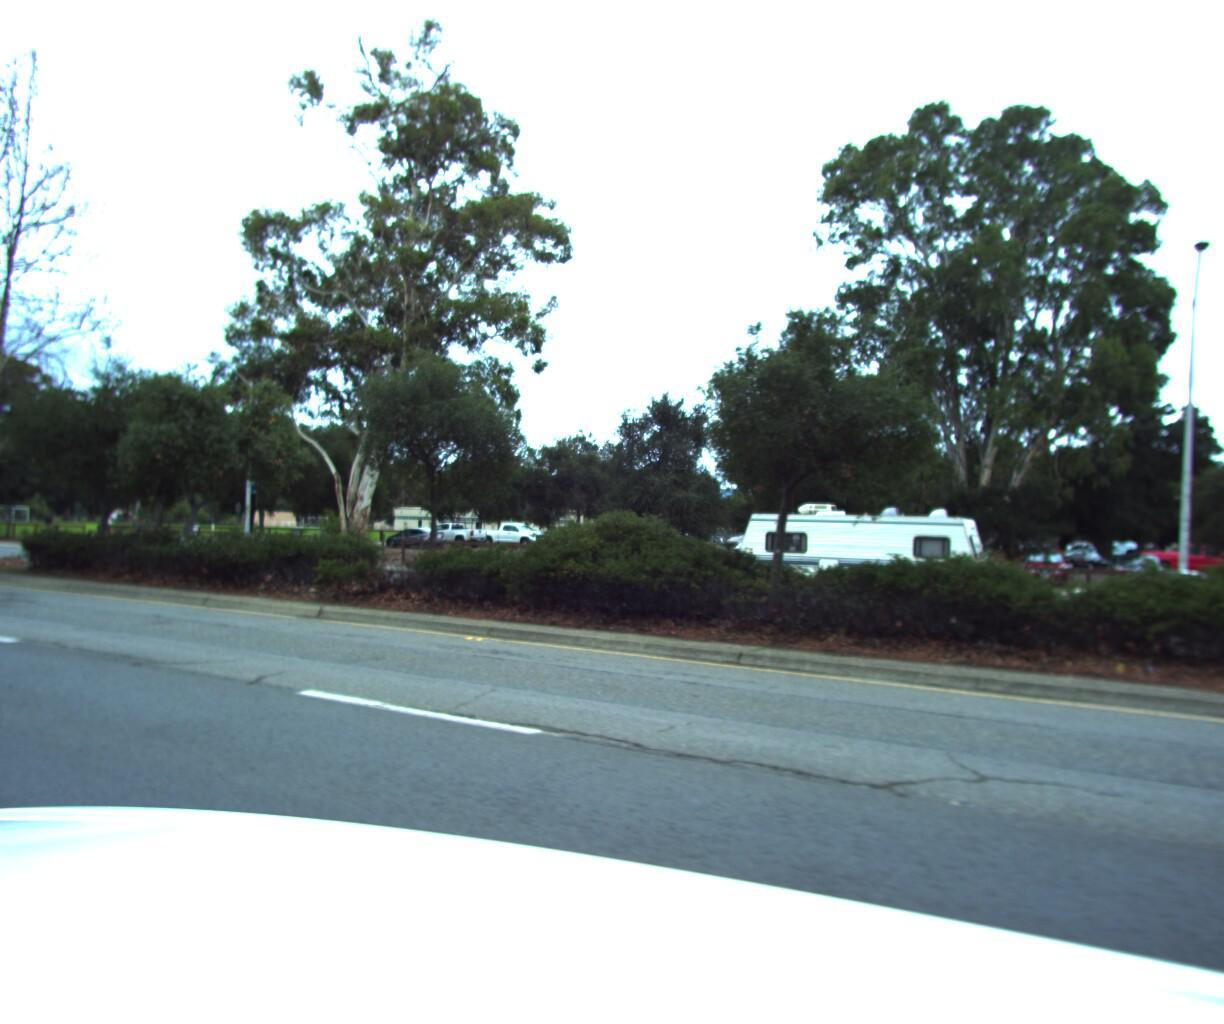car: (1046, 554, 1224, 627)
other_vehicle: (708, 495, 994, 608)
